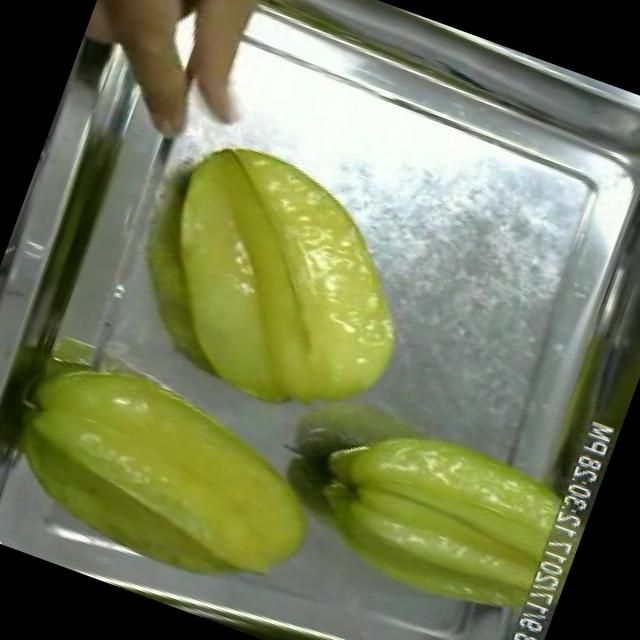fruit: (109, 118, 452, 455), (0, 323, 357, 630), (274, 386, 571, 640)
